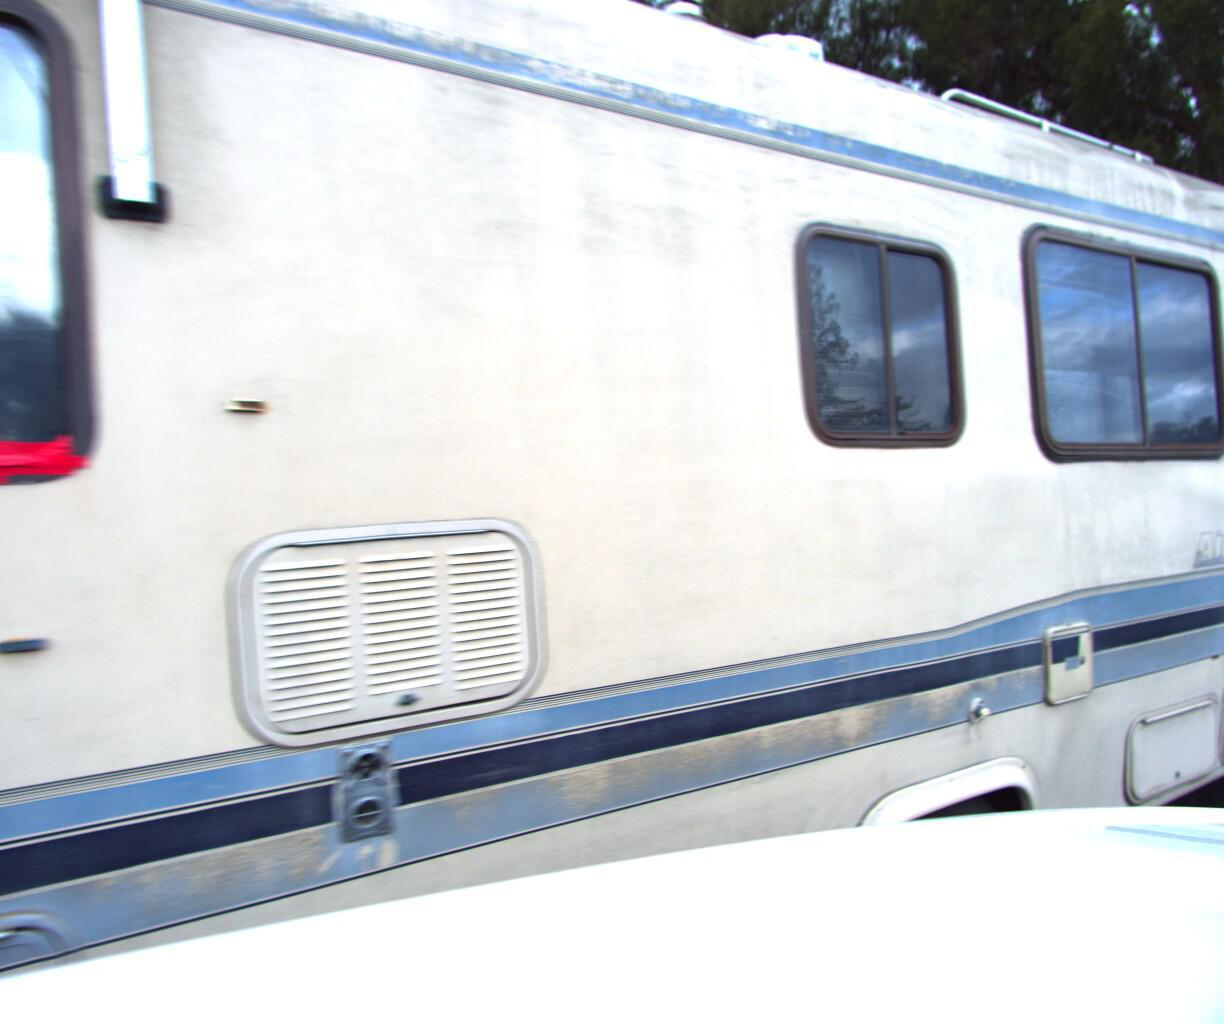car: (1164, 446, 1224, 790)
